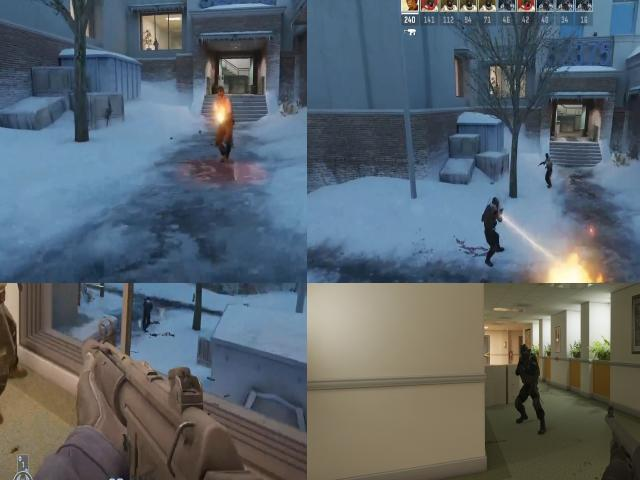CT: (519, 344, 537, 422), (482, 187, 504, 243), (140, 295, 154, 322)
CT-Head: (484, 194, 502, 216), (520, 344, 531, 358), (144, 296, 153, 306)
T: (0, 283, 28, 332), (213, 92, 234, 131), (542, 150, 555, 184)
T-Head: (215, 85, 226, 102), (545, 152, 553, 163)
